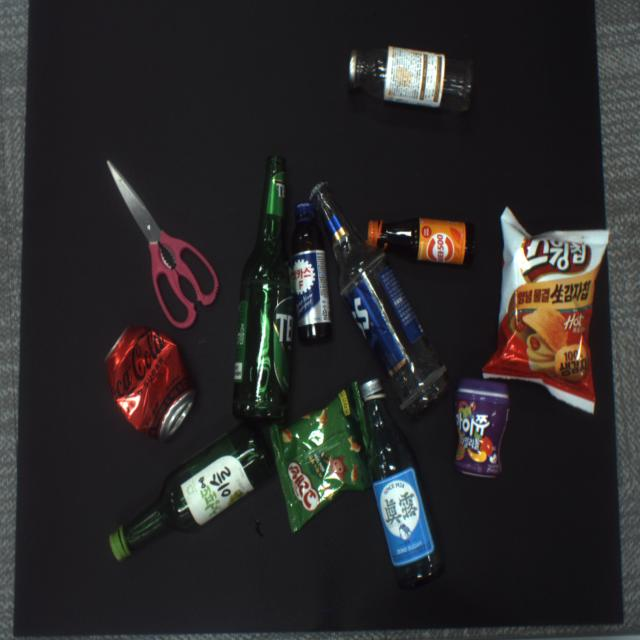beer-bottle: (309, 182, 448, 417), (233, 156, 297, 422)
soju-bottle: (110, 422, 275, 560), (360, 379, 441, 590)
